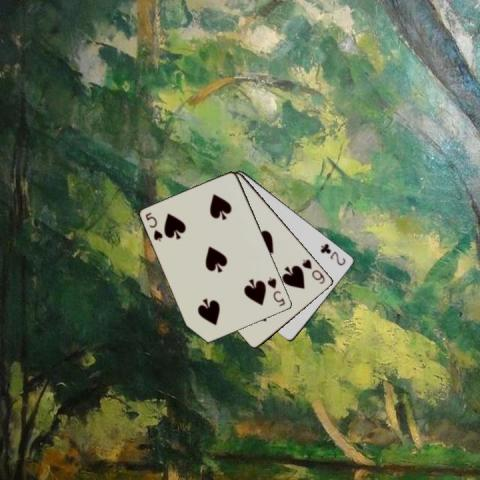2c: (318, 240, 348, 266)
5s: (264, 274, 286, 308), (142, 209, 164, 243)
6s: (299, 256, 327, 285)
